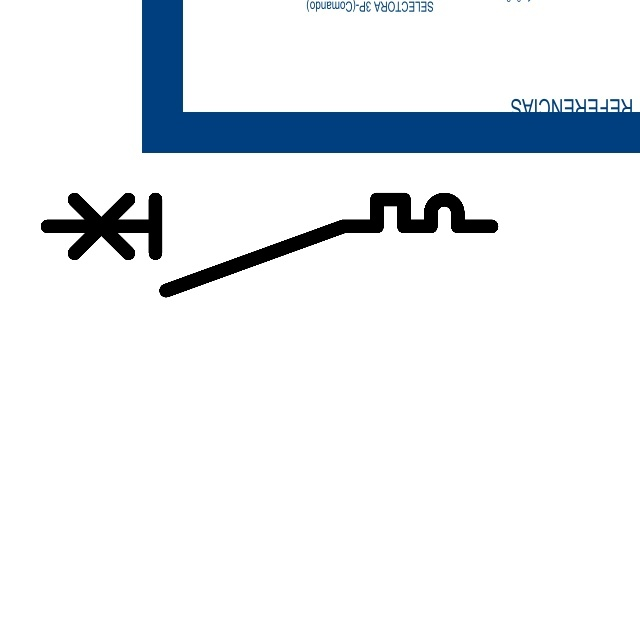interruptor_termomagnetico: (36, 188, 503, 302)
